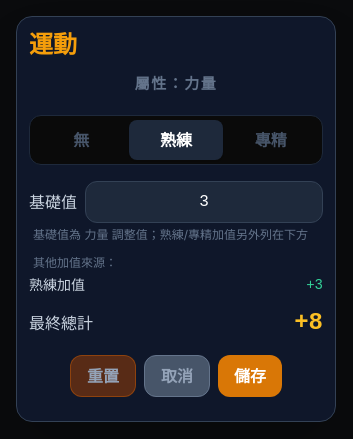
Test case: SkillAdjustModal › 切換熟練度時，基礎值不會自動改變，加值來源列表與最終總計即時反映新的熟練度
Click the button "專精": (271, 140) [223,120,318,160]
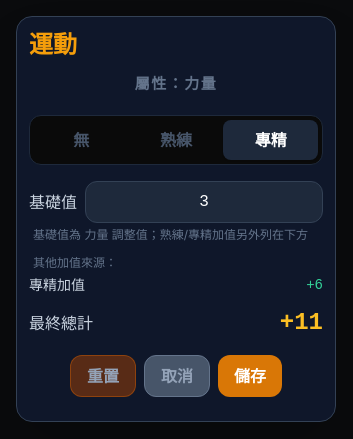
Expected: the field showing "3" is shown, [85,181,323,223]
Expected: the text "專精加值" is shown, [29,275,85,295]
Expected: the text "最終總計" shows "+11", [29,307,323,339]
